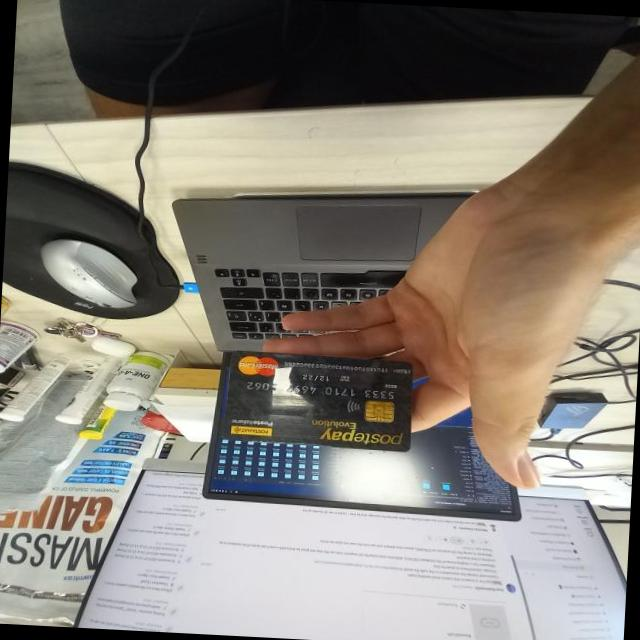card: (213, 346, 412, 458)
